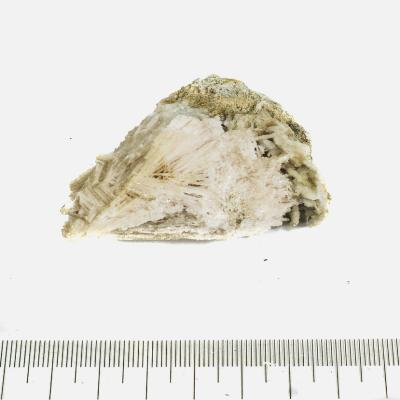mineralogy: (59, 74, 332, 245)
